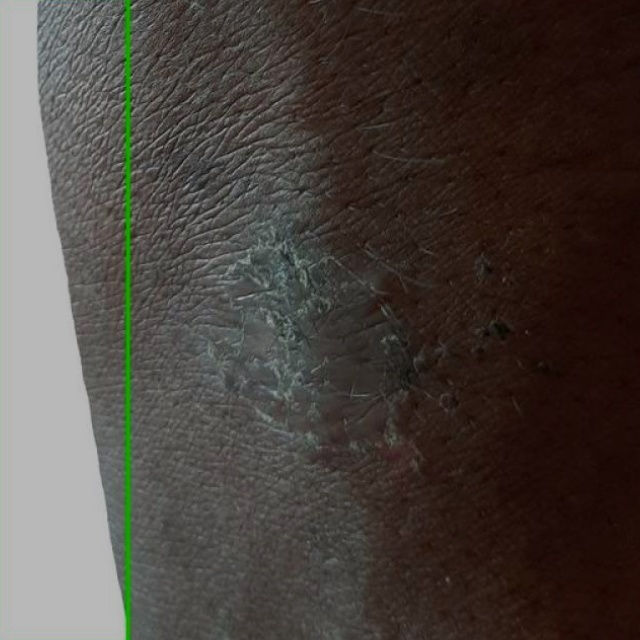Scabies: (0, 0, 128, 639)
